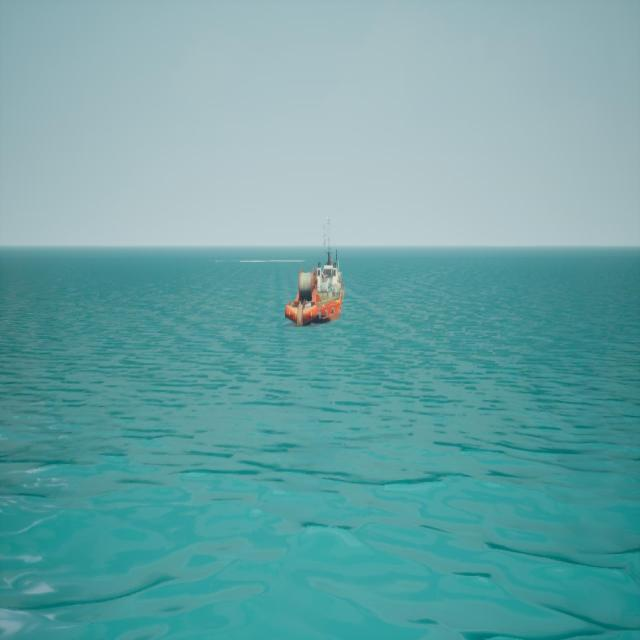tug boat: (288, 218, 344, 327)
